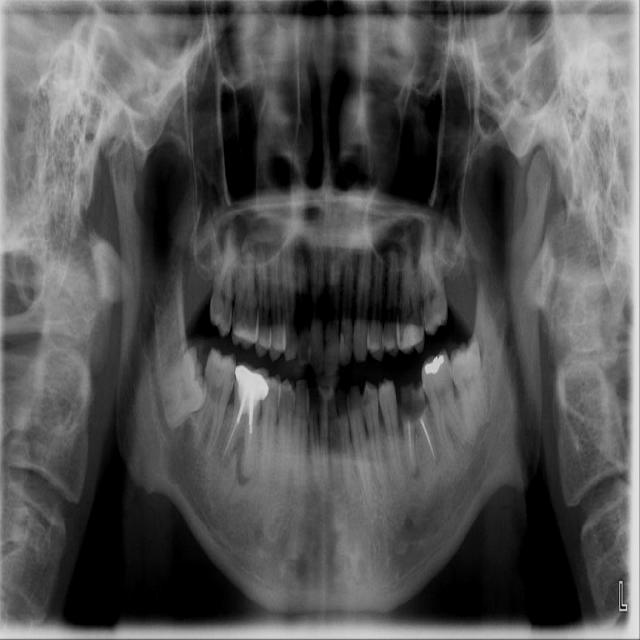Crown: (236, 366, 268, 401)
Filling: (425, 355, 445, 375)
Periapical lesion: (232, 437, 249, 487), (387, 469, 408, 494), (212, 451, 232, 469), (408, 462, 420, 480), (432, 448, 440, 465)
Root Canal Treatment: (224, 423, 240, 457), (247, 434, 253, 456)
Root Piece: (412, 379, 440, 461), (400, 385, 416, 476)
impacted tooth: (149, 351, 207, 430), (448, 338, 497, 431)
